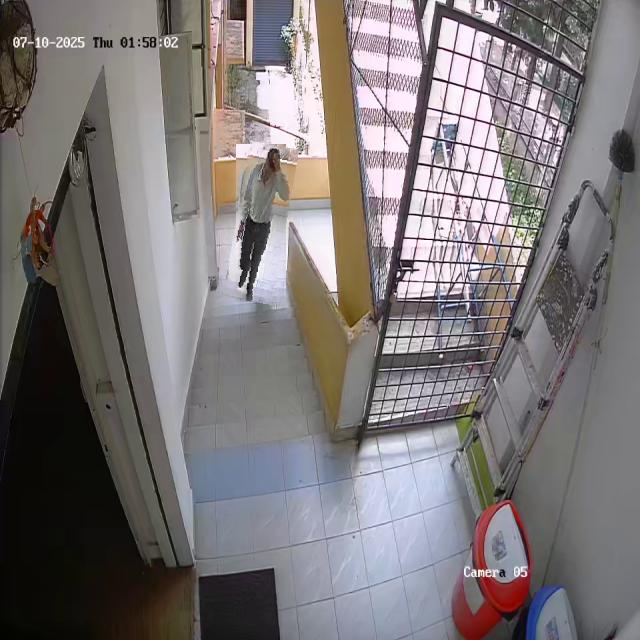person: (230, 142, 292, 304)
